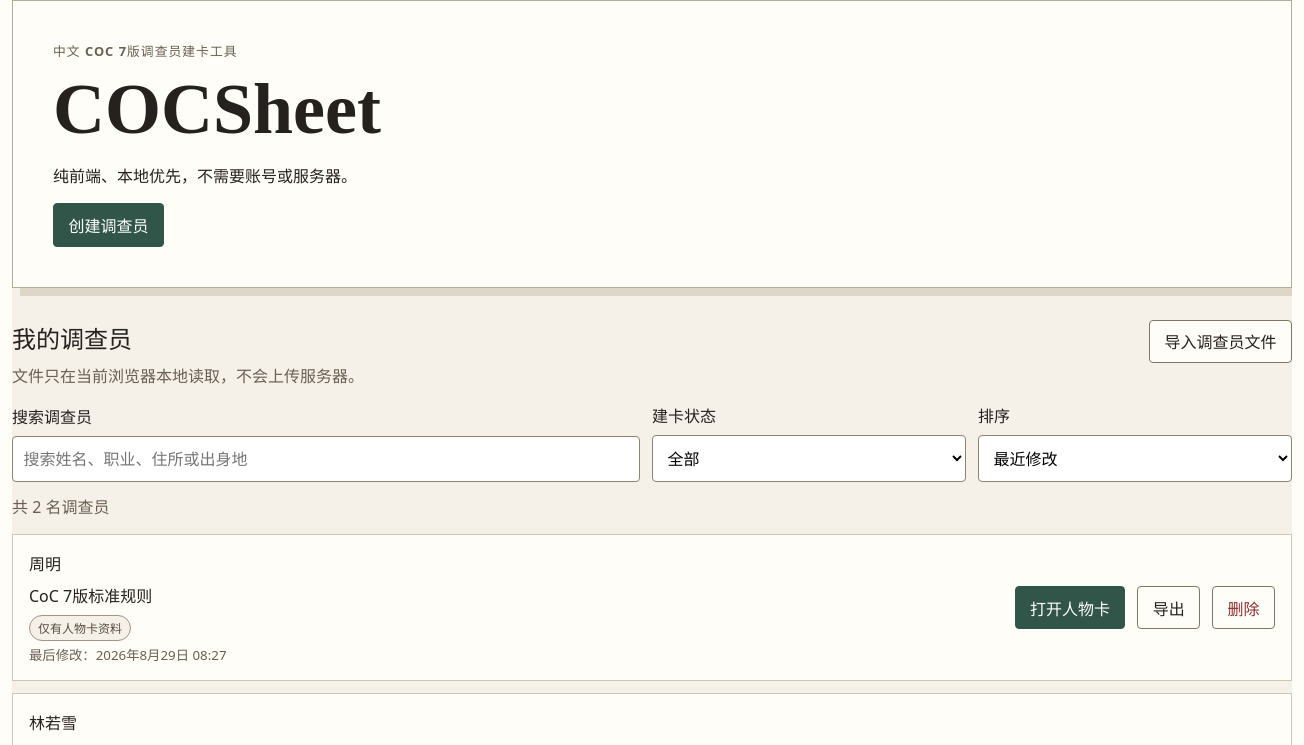
Test: HomePage investigator library browsing › searches the approved fields and changes the rendered cards immediately
The width and height of the screenshot is (1304, 745).
Type "JOURNALIST" into the search field labelled "搜索调查员" at coordinates (326, 459), box x1=12 y1=436 x2=640 y2=482
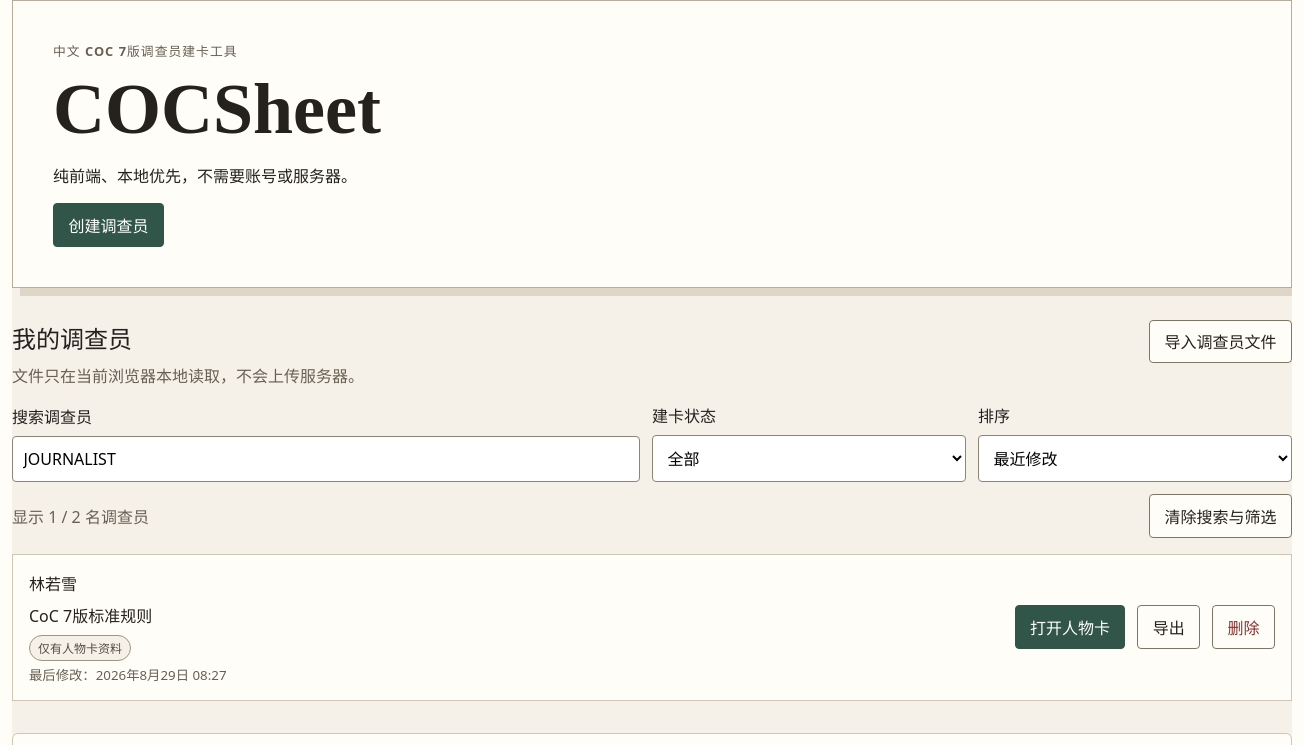
Now the text "显示 1 / 2 名调查员" is shown, box x1=12 y1=504 x2=149 y2=528
